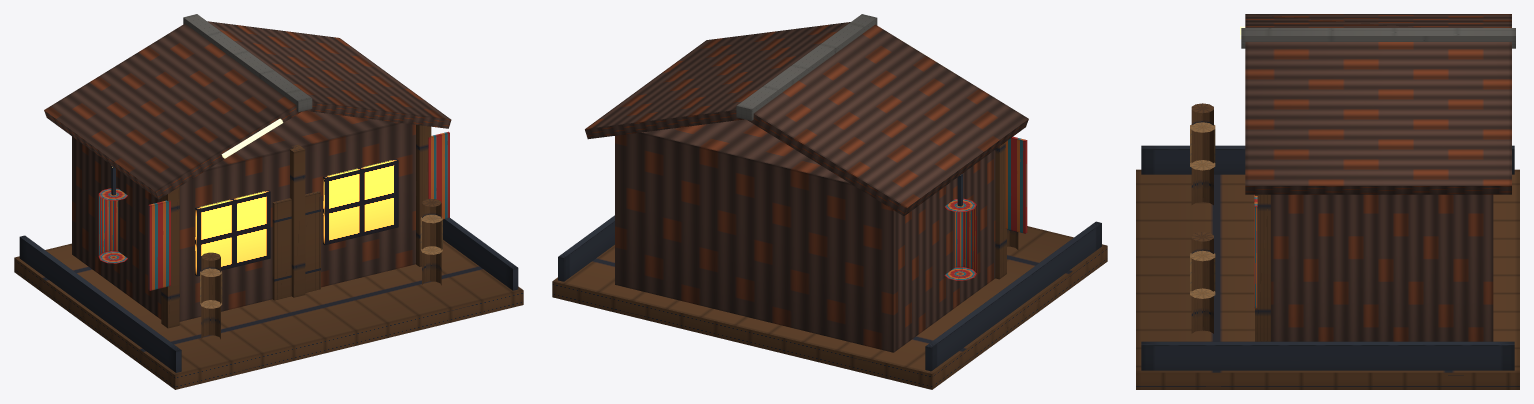
Rendered from ashblock_bloodward_dojo.glb.
3 renders of one model, left to right at view 1: azimuth 30°, elevation 25°; view 2: azimuth 150°, elevation 25°; view 3: azimuth 270°, elevation 25°, orthographic. The views are drawn at different scales.
Parts seen in each view (by area): view 1: ashblock_bloodward_dojo; view 2: ashblock_bloodward_dojo; view 3: ashblock_bloodward_dojo.
Part boxes in pixels (x1,y1,x2,y2): ashblock_bloodward_dojo: (14, 14, 523, 389); ashblock_bloodward_dojo: (552, 14, 1107, 389); ashblock_bloodward_dojo: (1136, 14, 1519, 389).
Bounding box in the file's own units: 9 × 5.31 × 7.2.
Materials: 1 (1 with a texture image).
